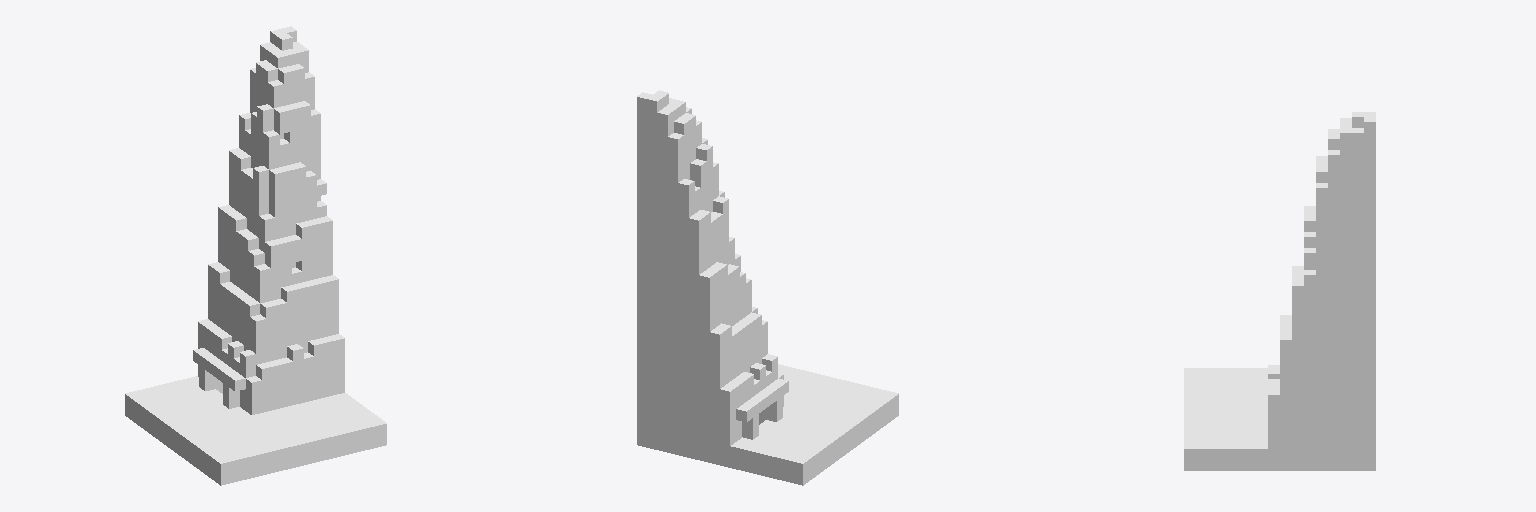
The model's file is Mountain_road_2.obj.
3 views of the same model, side by side, from view 1: azimuth 30°, elevation 25°; view 2: azimuth 150°, elevation 25°; view 3: azimuth 270°, elevation 25° (orthographic).
Visible parts, largest first — view 1: object 1; view 2: object 1; view 3: object 1.
Part boxes in pixels (x1,y1,x2,y2): object 1: (125, 26, 386, 485); object 1: (637, 90, 898, 485); object 1: (1184, 112, 1375, 470).
Size of the model in its own units: 1.6 by 3.2 by 1.6.